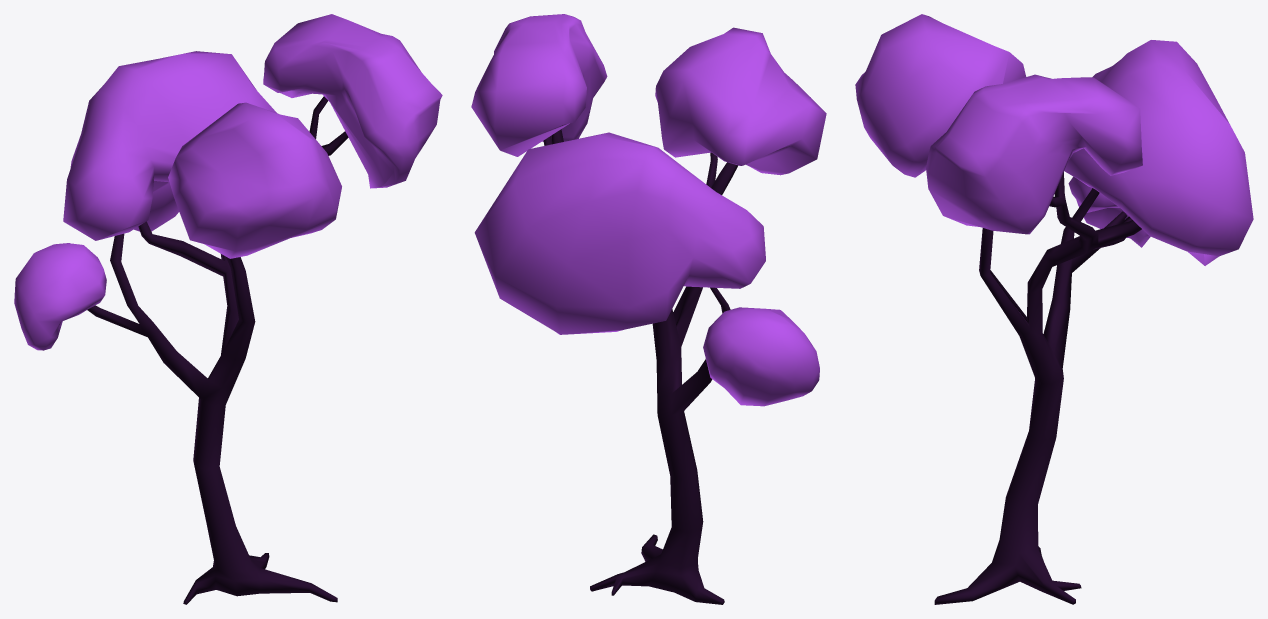
File: Tree2.3.fbx
3 views of the same model, side by side, from view 1: azimuth 30°, elevation 25°; view 2: azimuth 150°, elevation 25°; view 3: azimuth 270°, elevation 25° (orthographic). The views are drawn at different scales.
Parts seen in each view (by area): view 1: Foliage, Tree.002; view 2: Foliage, Tree.002; view 3: Foliage, Tree.002.
Part boxes in pixels (left/top/right/bottom): Foliage: left=14, top=14, right=442, bottom=350; Tree.002: left=87, top=96, right=348, bottom=604; Foliage: left=471, top=14, right=826, bottom=406; Tree.002: left=543, top=129, right=738, bottom=604; Foliage: left=855, top=14, right=1253, bottom=265; Tree.002: left=934, top=172, right=1141, bottom=604.
Bounding box in the file's own units: 3.45 × 4.81 × 3.13.
